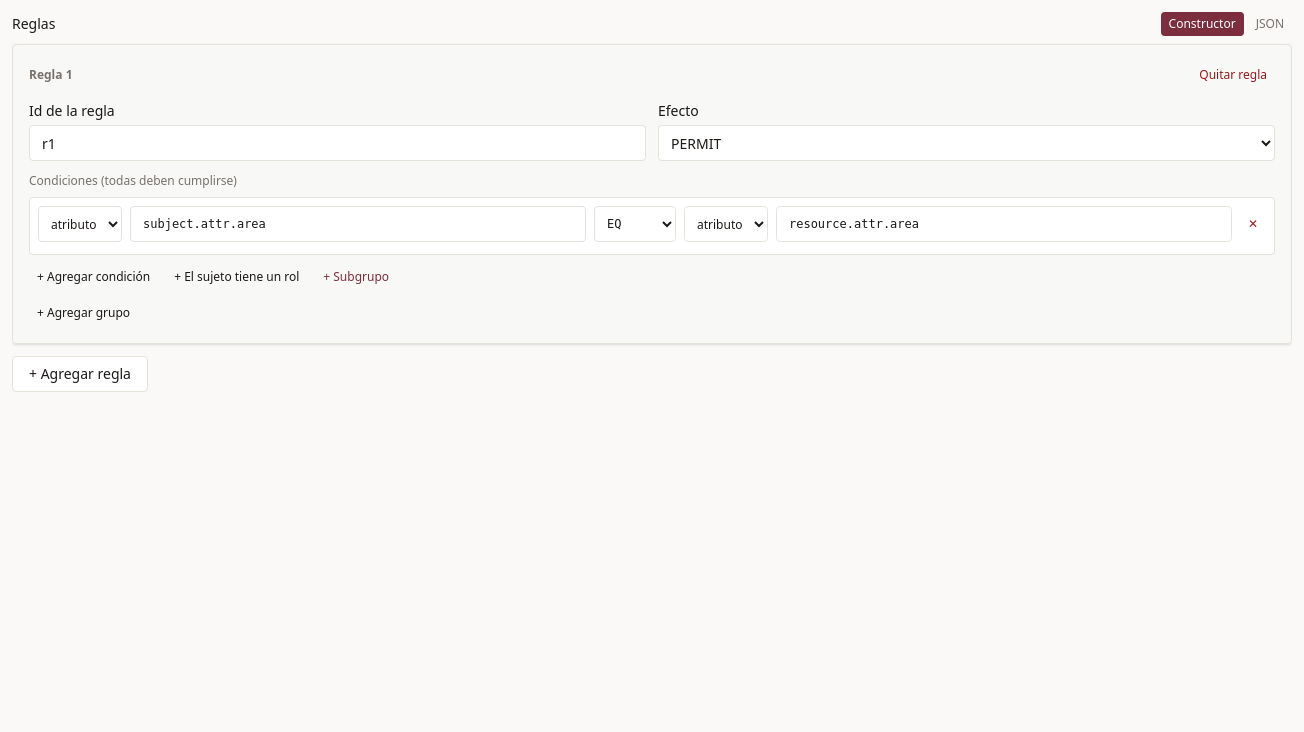
Test: RuleBuilder — interaction › adds an opt-in subgroup that stays visible
The image size is (1304, 732).
Step 1. Click the button "+ Subgrupo" → (356, 277), box [315, 263, 397, 291]
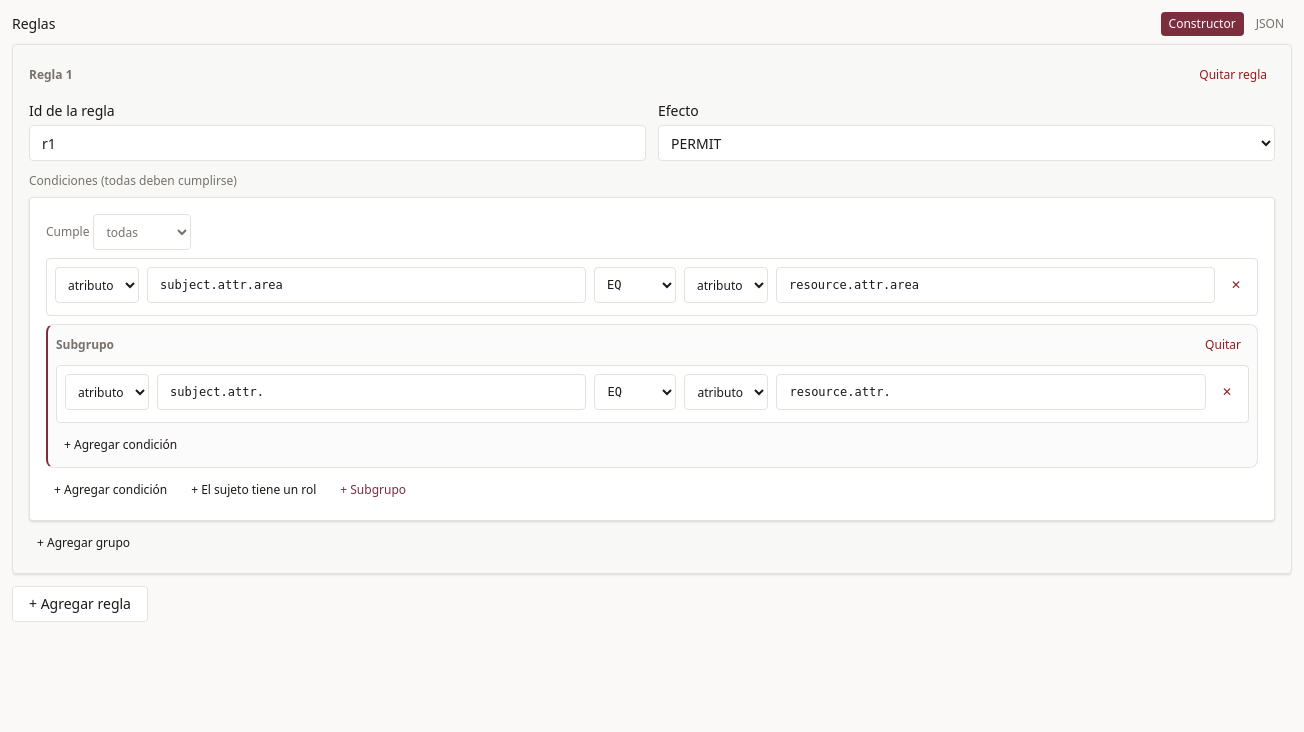
Expected: the text "Subgrupo" is shown, [56, 337, 114, 353]
